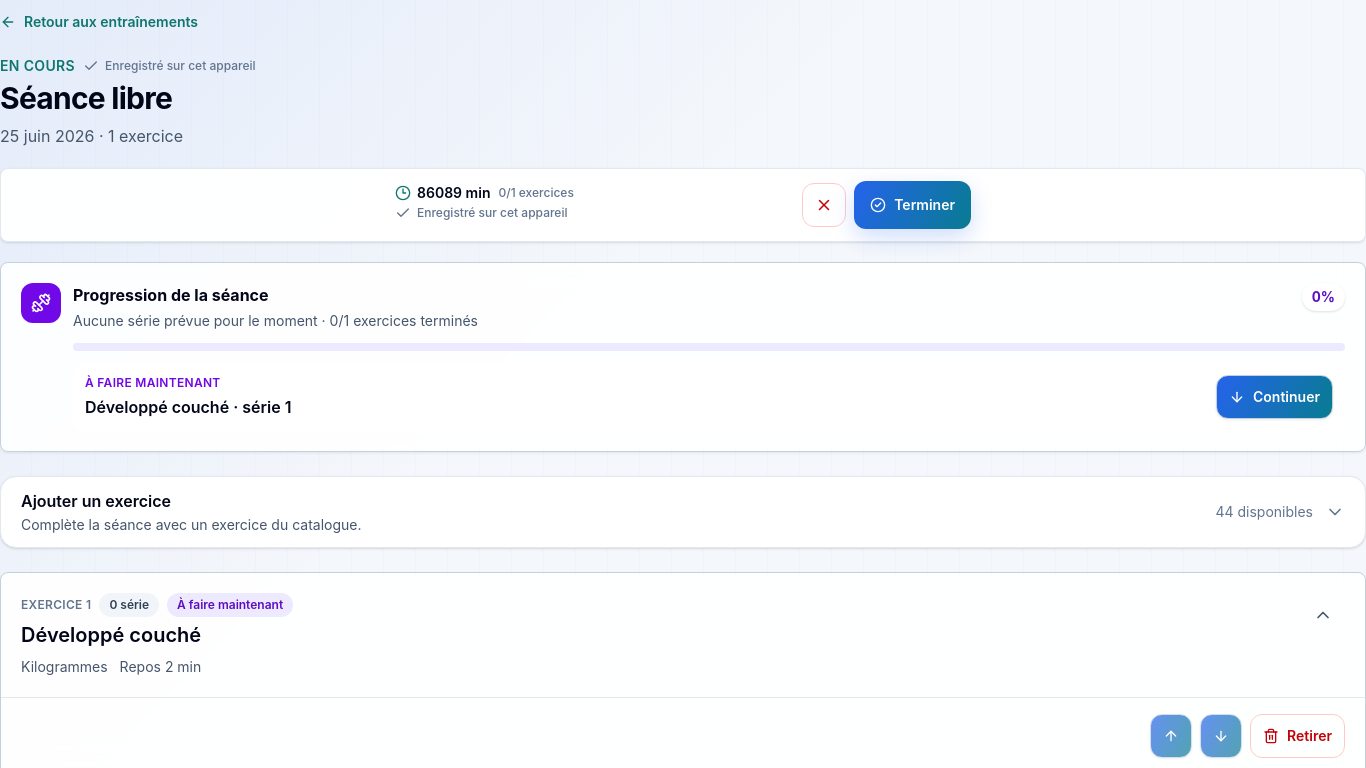
Test: WorkoutSessionPage › reste sur la séance et n’affiche aucun toast de succès si la persistance échoue
expect the heading "Séance libre" is shown: met, box [0,80,172,116]
Click the button "Terminer".
click(913, 205)  # box [854,181,971,229]
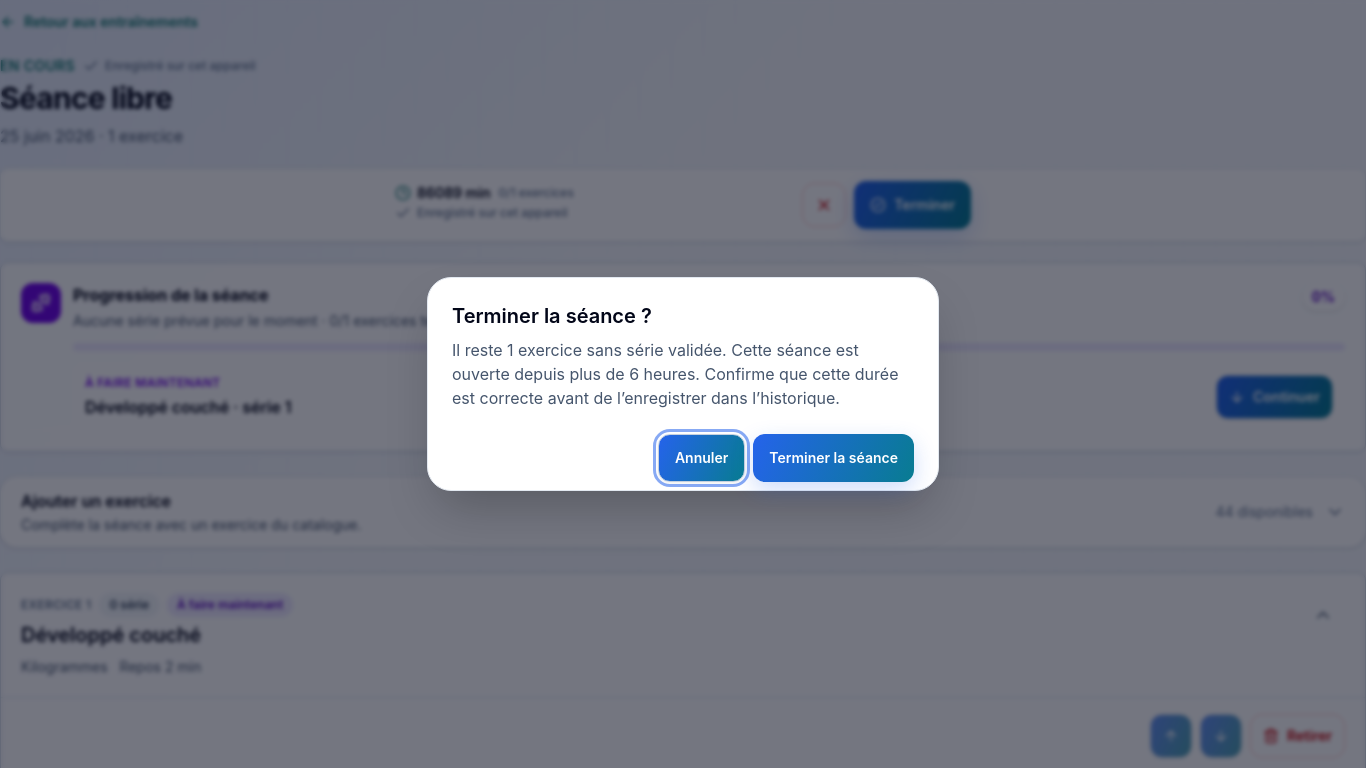
Click the button "Terminer la séance".
click(834, 458)  # box [753,434,914,482]
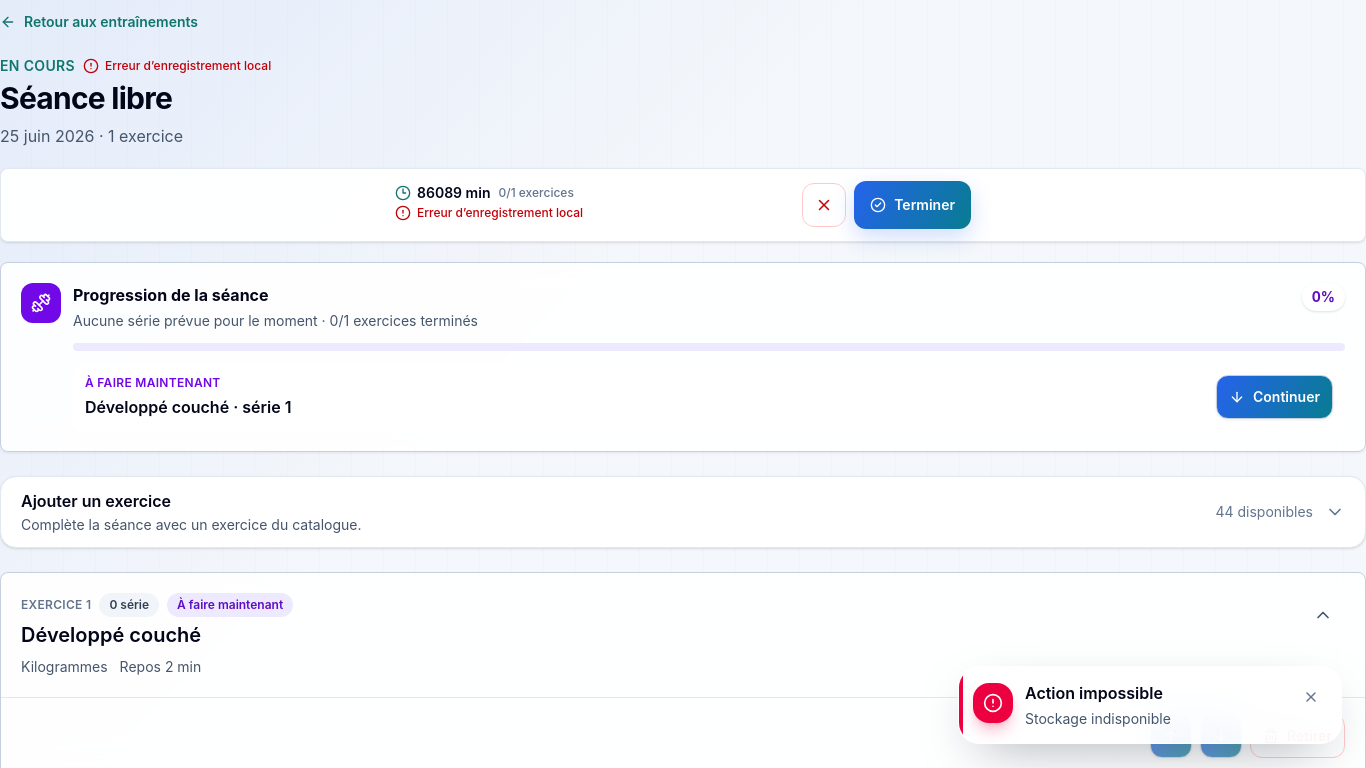
expect the heading "Séance libre" is shown: met, box [0,80,172,116]
expect the text "Action impossible" is shown: met, box [1025,683,1163,703]
